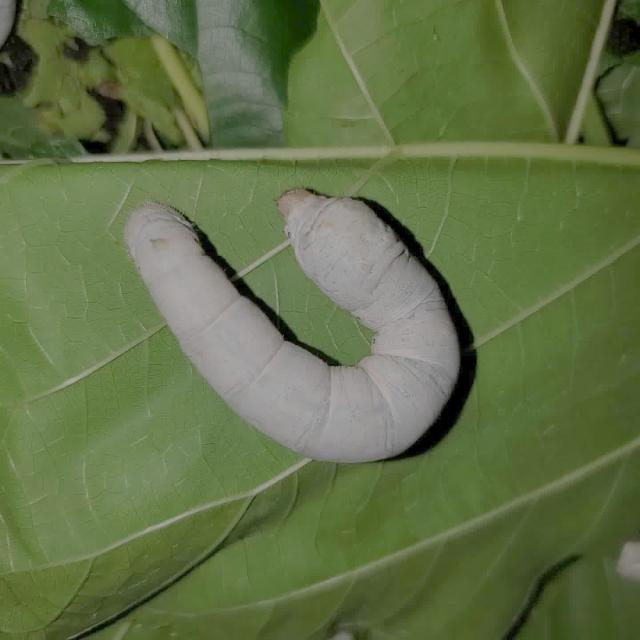Healthy: (95, 160, 527, 496)
